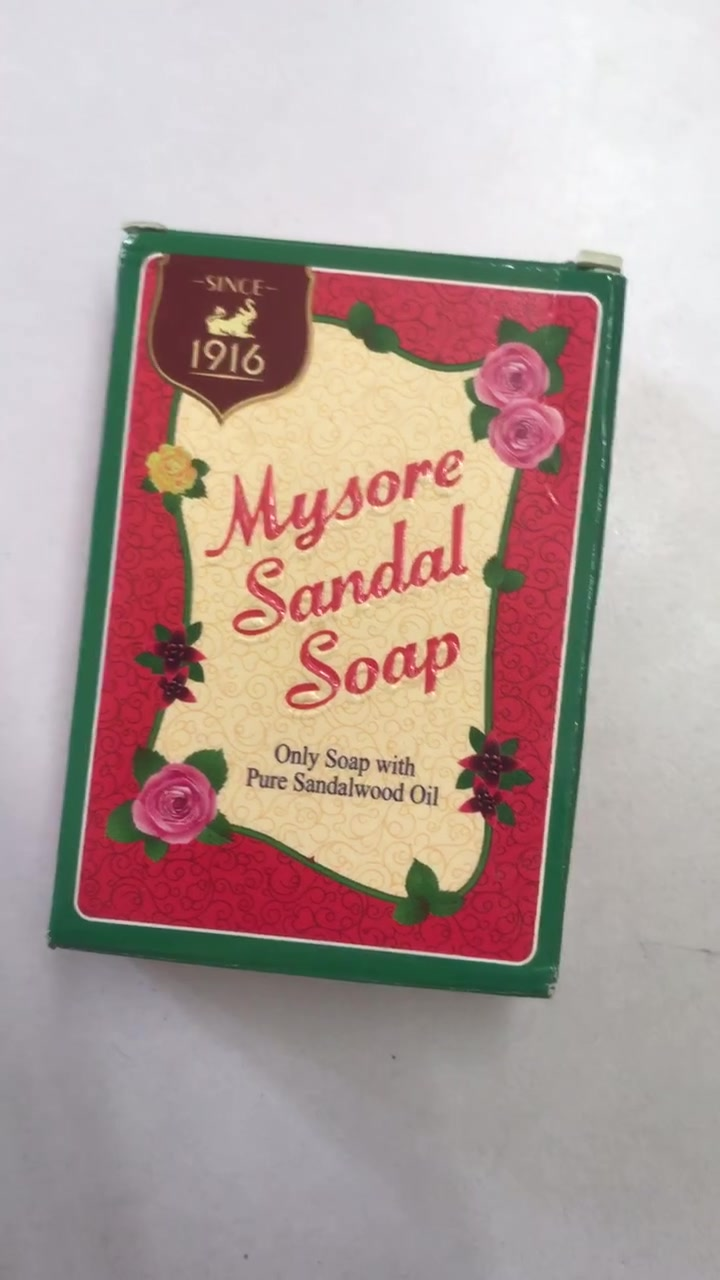mysore sandal soap: (58, 223, 626, 1003)
